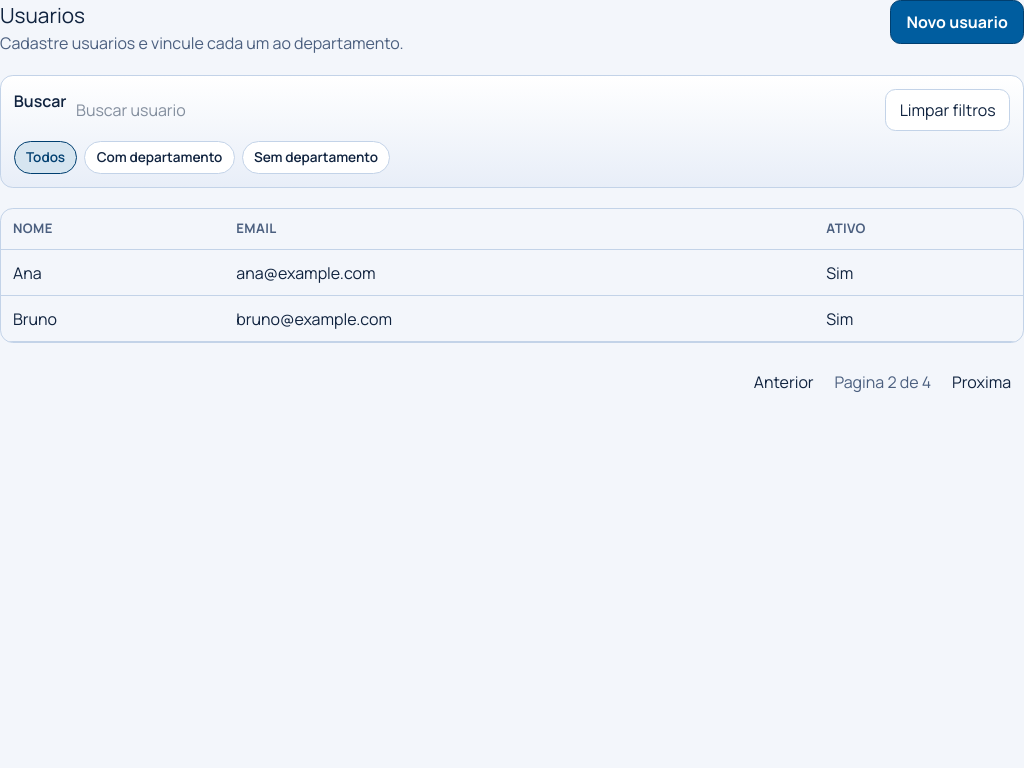
it: UsuariosPage listing flow › keeps modal open and preserves values on failure
Click the button "Novo usuario".
click(957, 22)  # box [890,0,1023,44]
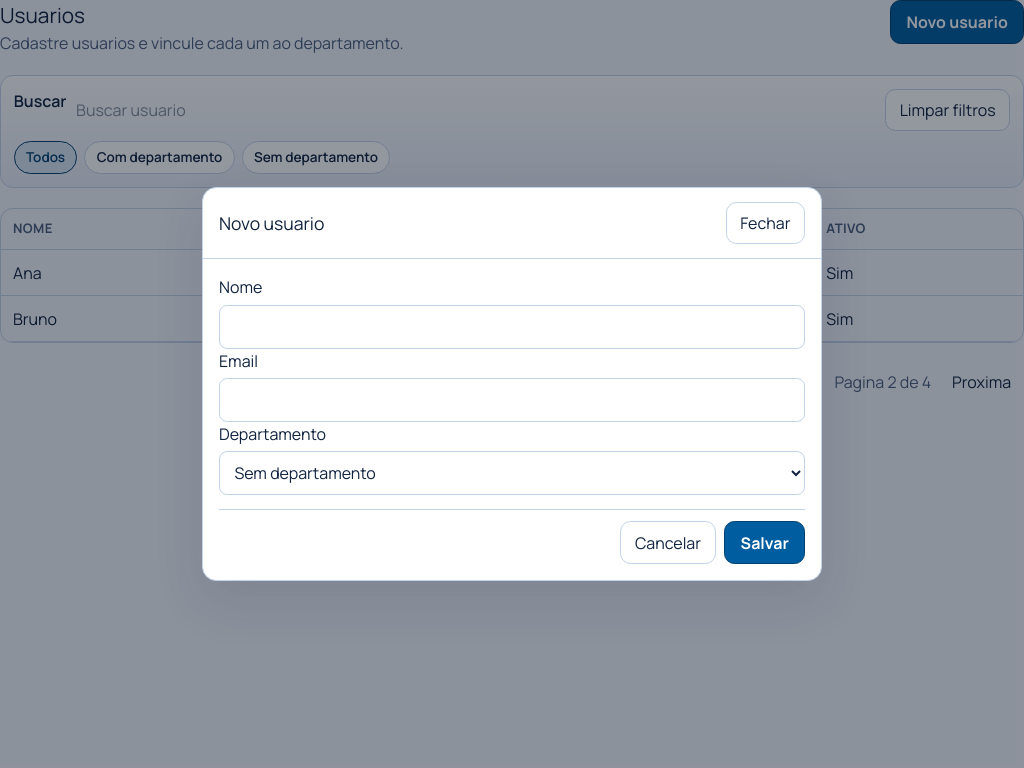
Type "Carla" into the field labelled "Nome".
click(512, 327); type("Carla")  # box [219,305,805,349]
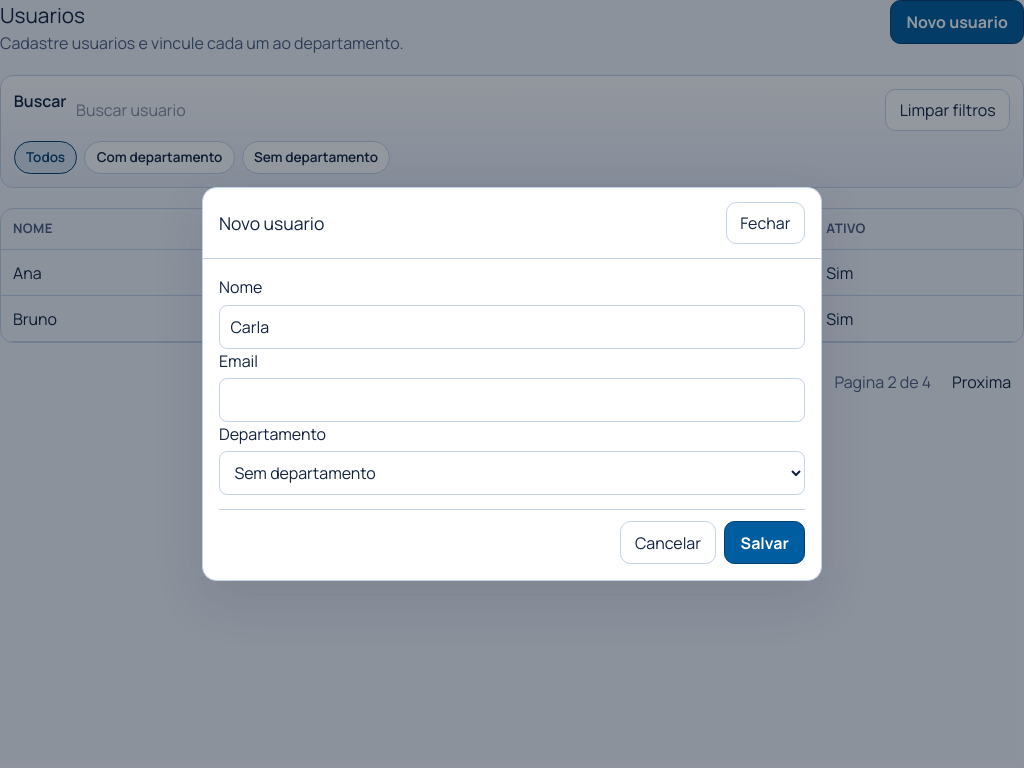
Type "carla@example.com" into the field labelled "Email".
click(512, 400); type("carla@example.com")  # box [219,378,805,422]
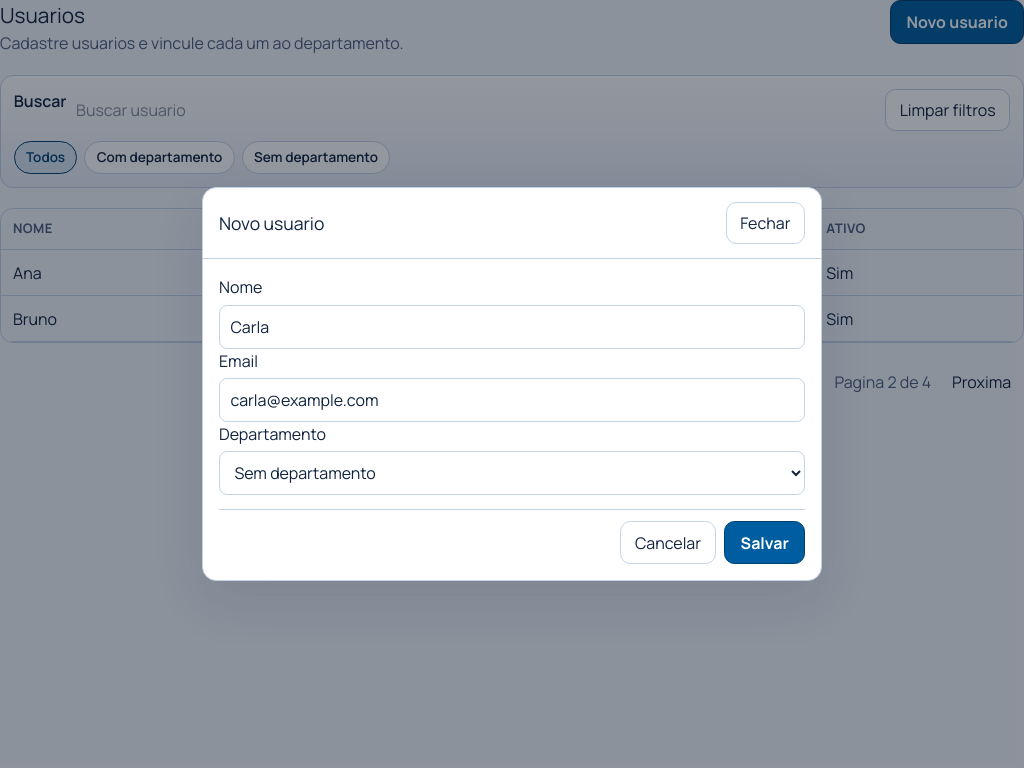
Select "Comercial" in the dropdown labelled "Departamento" at coordinates (512, 473), box [219,451,805,495]
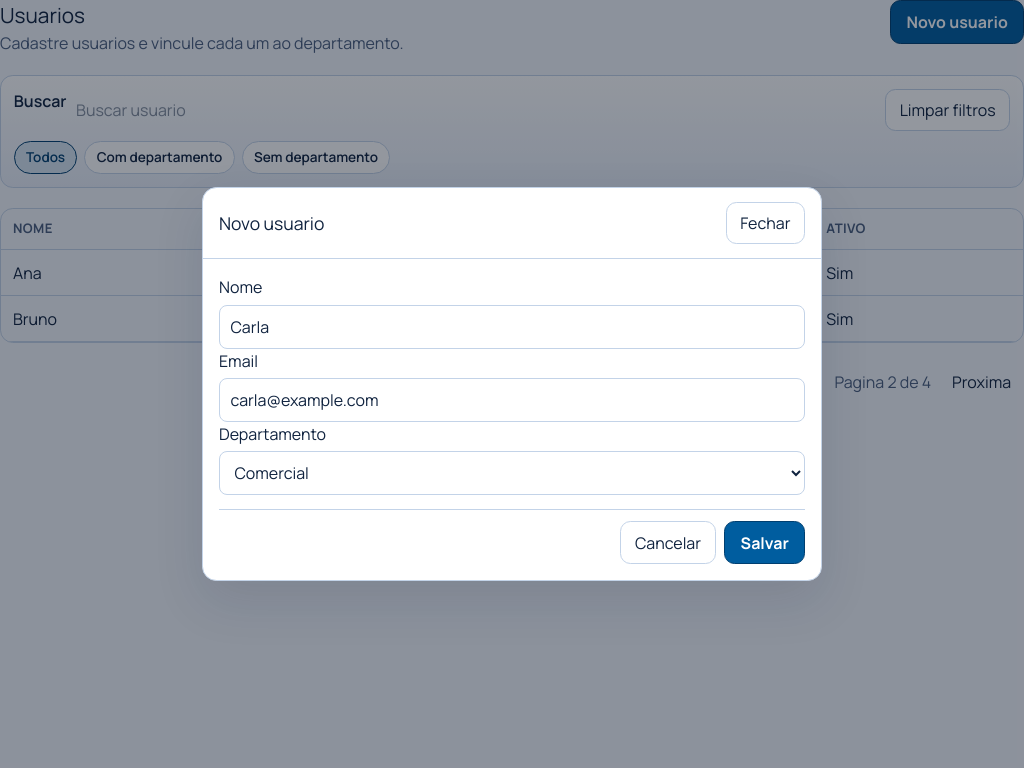
Click the button "Salvar".
click(765, 543)  # box [724,521,805,564]
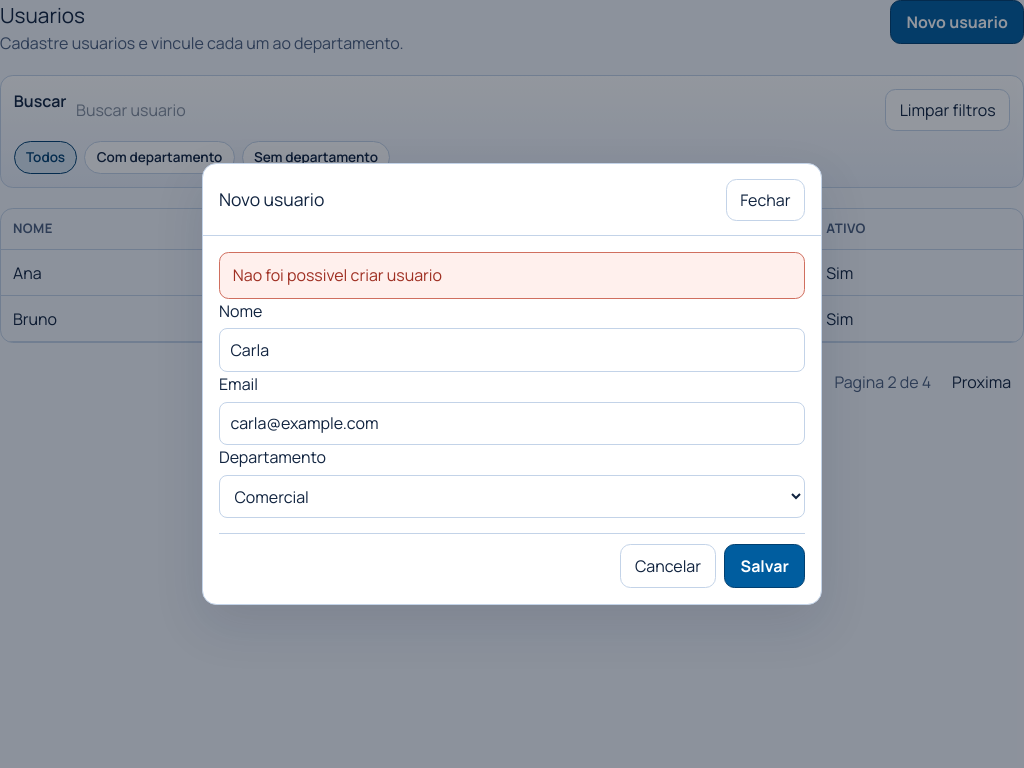
Expected: the dialog "Novo usuario" is shown, [202,163,822,605]
Expected: the text "Nao foi possivel criar usuario" is shown, [219,252,805,299]
